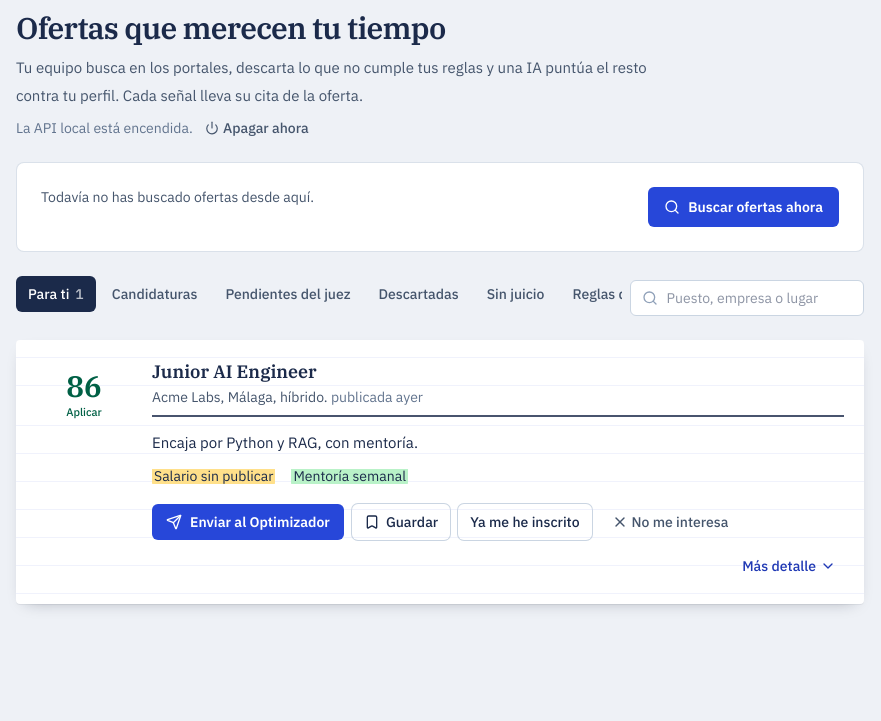
HunterView › la pestaña Candidaturas enseña la compatibilidad y cambia el estado
Click the tab "Candidaturas" at (155,294), box left=100, top=276, right=210, bottom=312
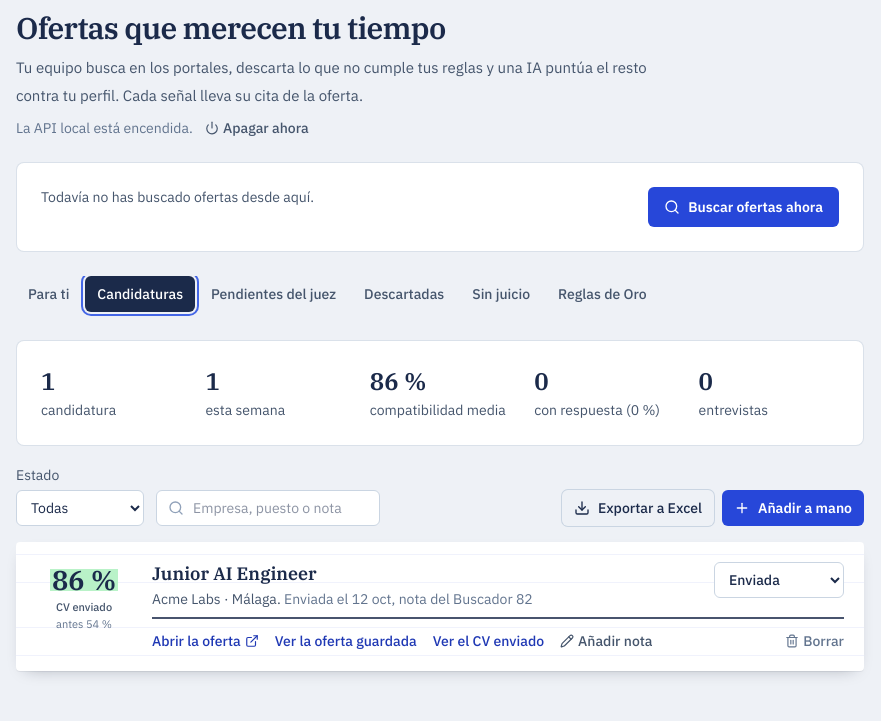
expect the text "antes 54 %" is shown: met, box left=56, top=616, right=112, bottom=632
Select "Entrevista" in the dropdown named "Estado de la candidatura" at (779,580), box left=714, top=562, right=844, bottom=598
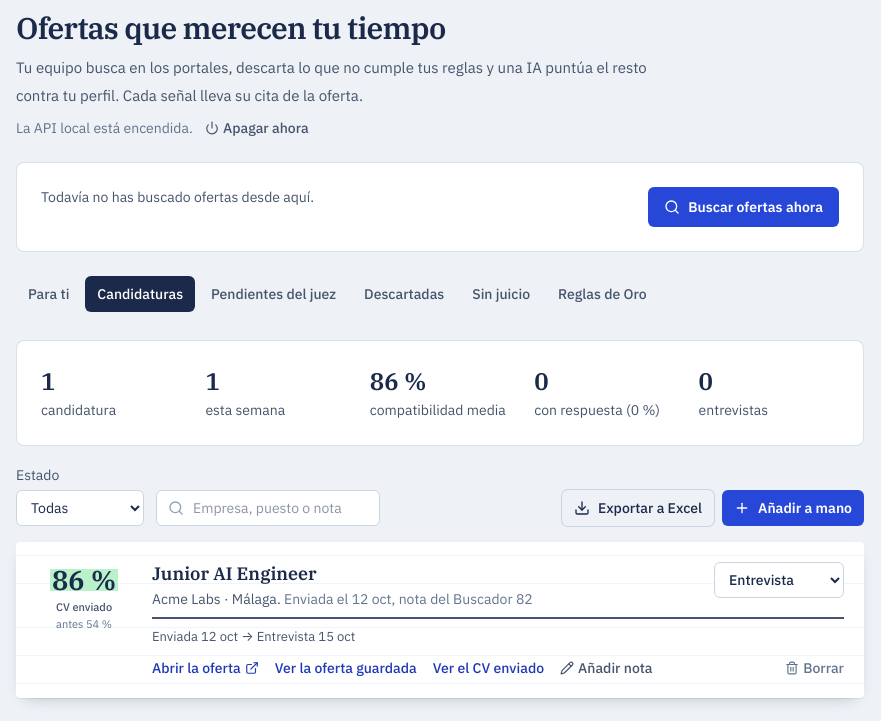
expect the text "→ Entrevista 15 oct" is shown: met, box left=238, top=628, right=355, bottom=645
